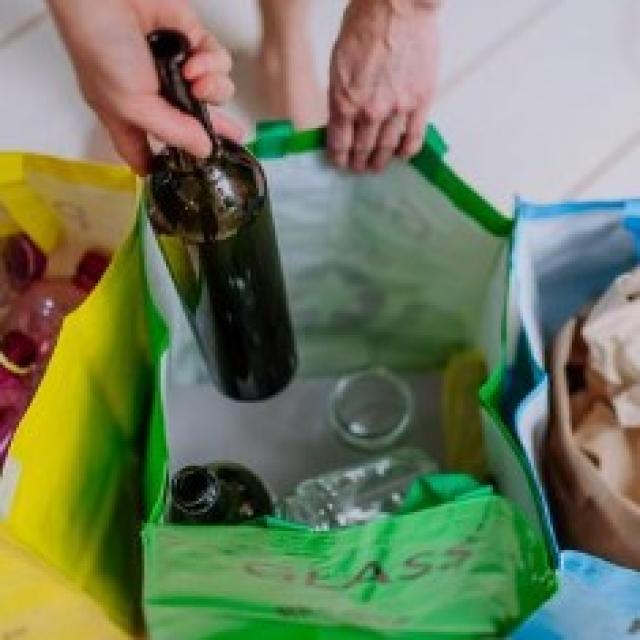electronic: (138, 27, 307, 410), (164, 457, 274, 545)
